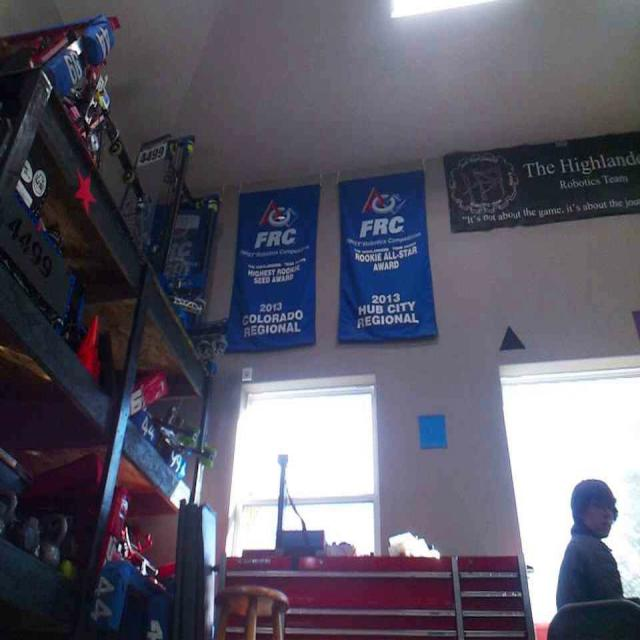square_blue: (416, 412, 450, 449)
star_red: (73, 170, 97, 213)
triangle_black: (499, 323, 525, 350)
